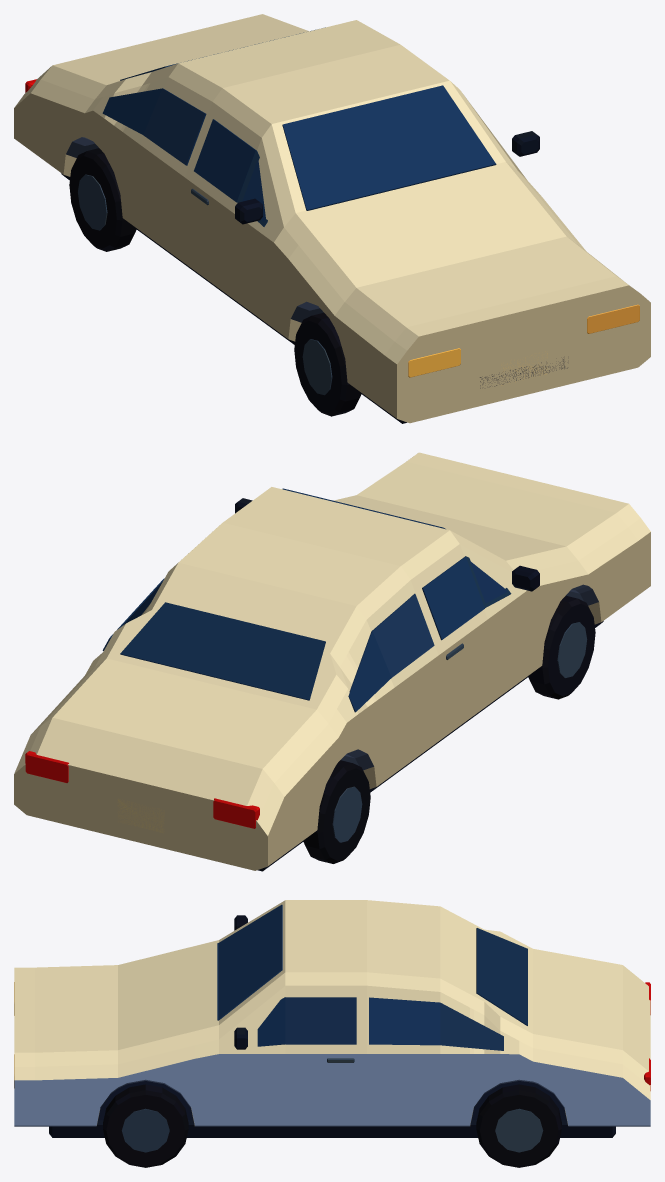
Rendered from HK_Sedan.fbx.
The picture shows the model from 3 angles, top to bottom: view 1: azimuth 30°, elevation 25°; view 2: azimuth 150°, elevation 25°; view 3: azimuth 270°, elevation 25°; orthographic projection. The views are drawn at different scales.
Parts seen in each view (by area): view 1: HK_Sedan_BodyMain, HK_Sedan_Glass, HK_Sedan_Tire_FR, HK_Sedan_Tire_RR; view 2: HK_Sedan_BodyMain, HK_Sedan_Glass, HK_Sedan_Tire_RR, HK_Sedan_Tire_FR; view 3: HK_Sedan_BodyMain, HK_Sedan_Glass, HK_Sedan_Tire_FL, HK_Sedan_Tire_RL.
Part boxes in pixels (x1=…): HK_Sedan_BodyMain: x1=14, y1=14, x2=650, y2=423; HK_Sedan_Glass: x1=102, y1=27, x2=496, y2=226; HK_Sedan_Tire_FR: x1=294, y1=312, x2=361, y2=416; HK_Sedan_Tire_RR: x1=69, y1=148, x2=136, y2=251; HK_Sedan_BodyMain: x1=14, y1=452, x2=650, y2=871; HK_Sedan_Glass: x1=102, y1=488, x2=511, y2=712; HK_Sedan_Tire_RR: x1=303, y1=760, x2=370, y2=863; HK_Sedan_Tire_FR: x1=528, y1=595, x2=595, y2=699; HK_Sedan_BodyMain: x1=14, y1=900, x2=650, y2=1137; HK_Sedan_Glass: x1=217, y1=904, x2=527, y2=1050; HK_Sedan_Tire_FL: x1=103, y1=1084, x2=188, y2=1167; HK_Sedan_Tire_RL: x1=476, y1=1084, x2=561, y2=1167.
Size of the model in its own units: 2.08 by 1.45 by 4.61.
